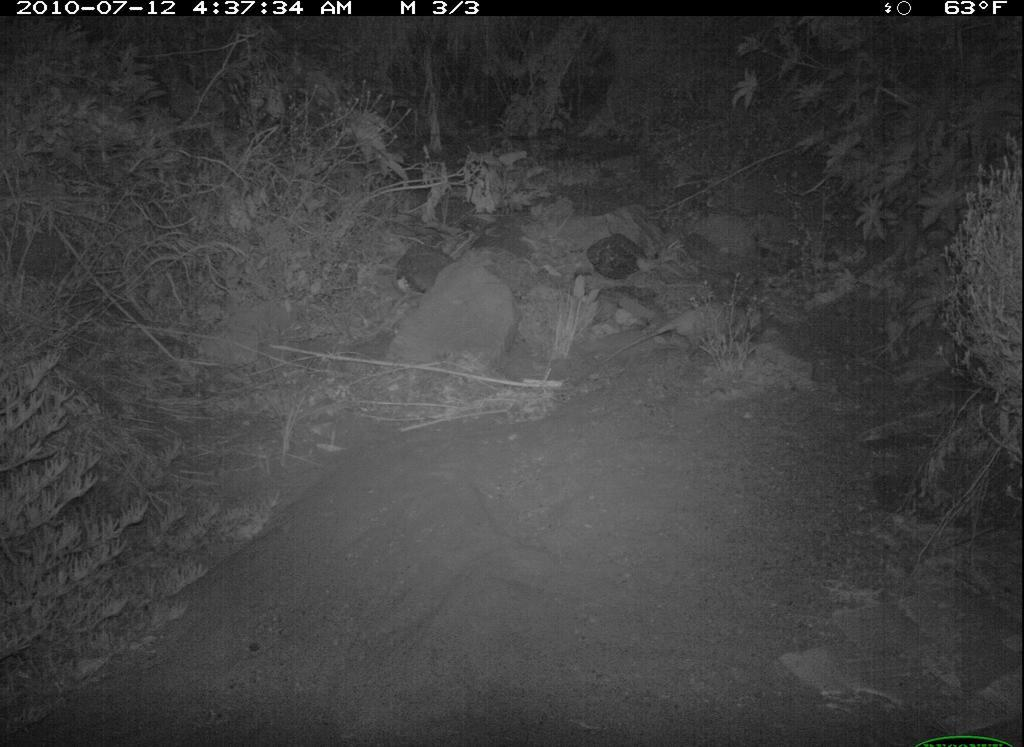opossum: (588, 297, 769, 378)
